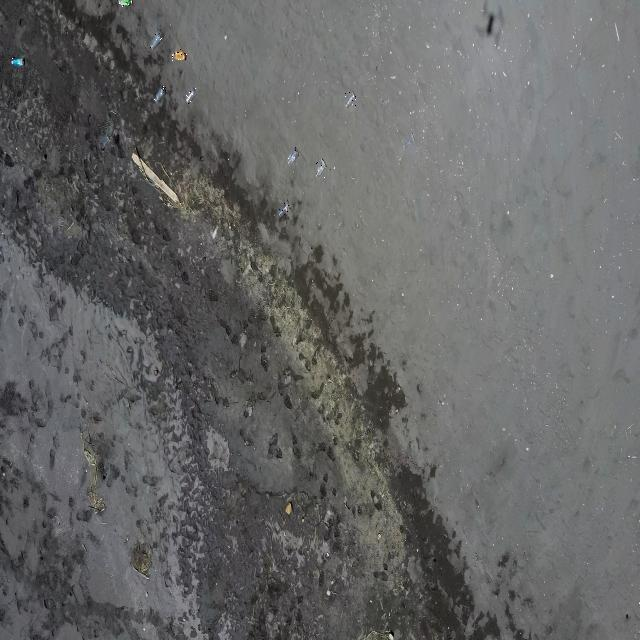plastic-bottle: (172, 49, 187, 60), (10, 57, 24, 68), (117, 0, 133, 7)
takeaway-cup: (316, 158, 326, 179), (154, 86, 166, 103), (150, 32, 162, 49), (345, 91, 356, 109), (278, 200, 290, 216), (288, 148, 298, 165), (186, 87, 196, 104)
